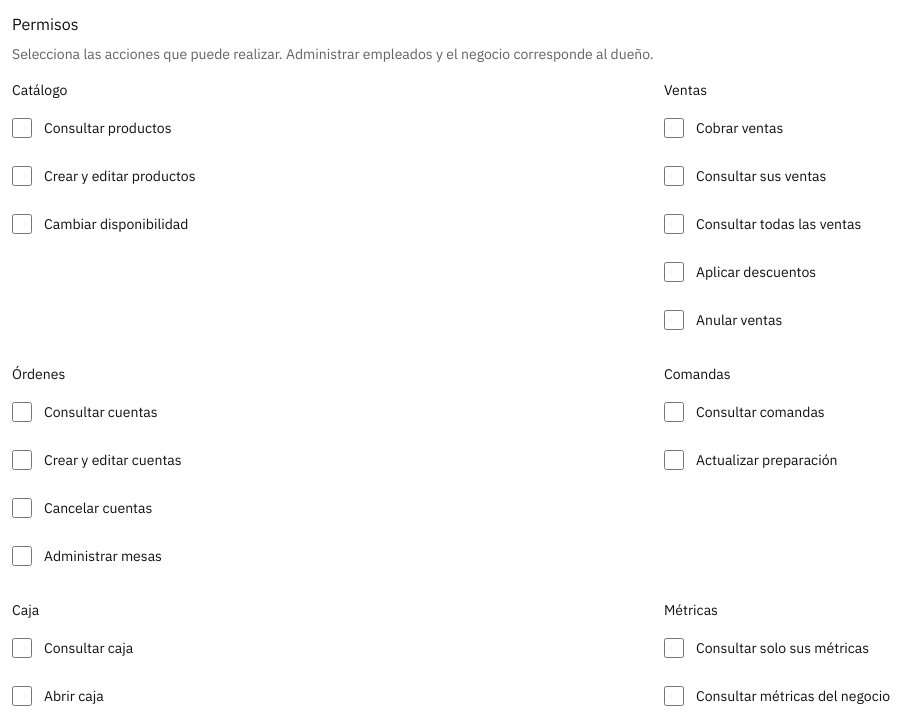
Scenario: offers grouped action checkboxes and keeps required reading permissions in sync
Click the checkbox labelled "Crear y editar productos".
click(22, 176)  # box x1=12 y1=166 x2=32 y2=186
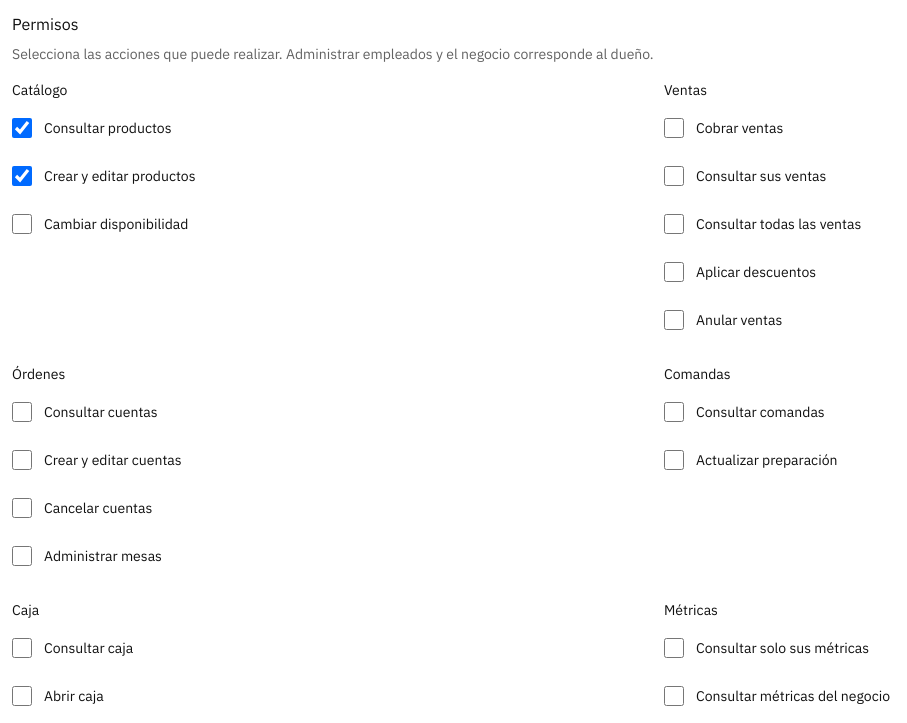
Now the checkbox labelled "Crear y editar productos" is checked, box x1=12 y1=166 x2=32 y2=186
Now the checkbox labelled "Consultar productos" is checked
Click the checkbox labelled "Consultar productos".
click(22, 128)  # box x1=12 y1=118 x2=32 y2=138
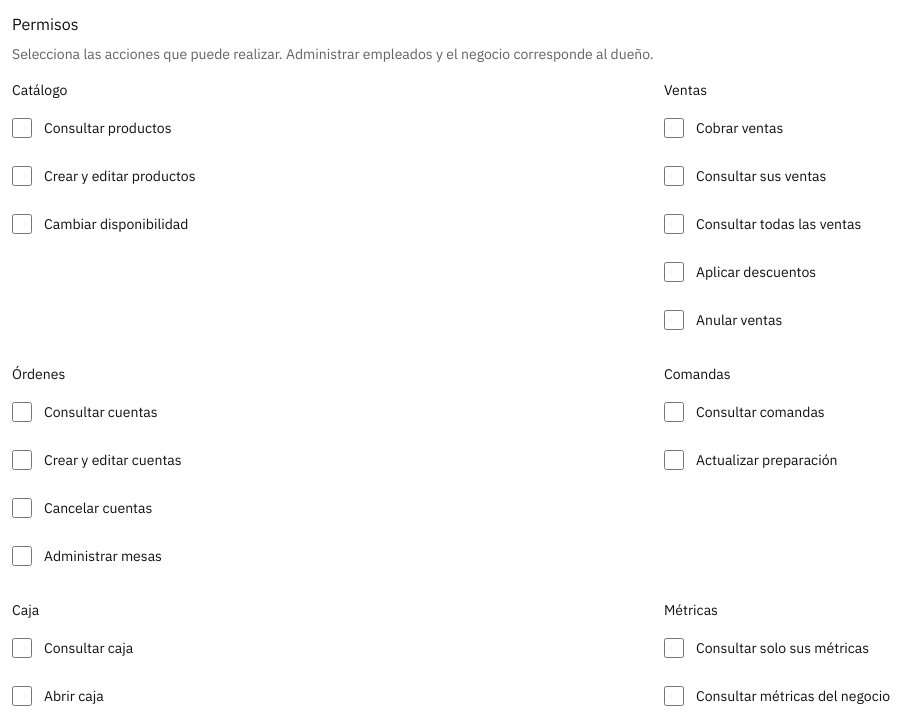
Now the checkbox labelled "Consultar productos" is not checked, box x1=12 y1=118 x2=32 y2=138
Now the checkbox labelled "Crear y editar productos" is not checked, box x1=12 y1=166 x2=32 y2=186
Click the checkbox labelled "Aplicar descuentos".
click(674, 272)  # box x1=664 y1=262 x2=684 y2=282
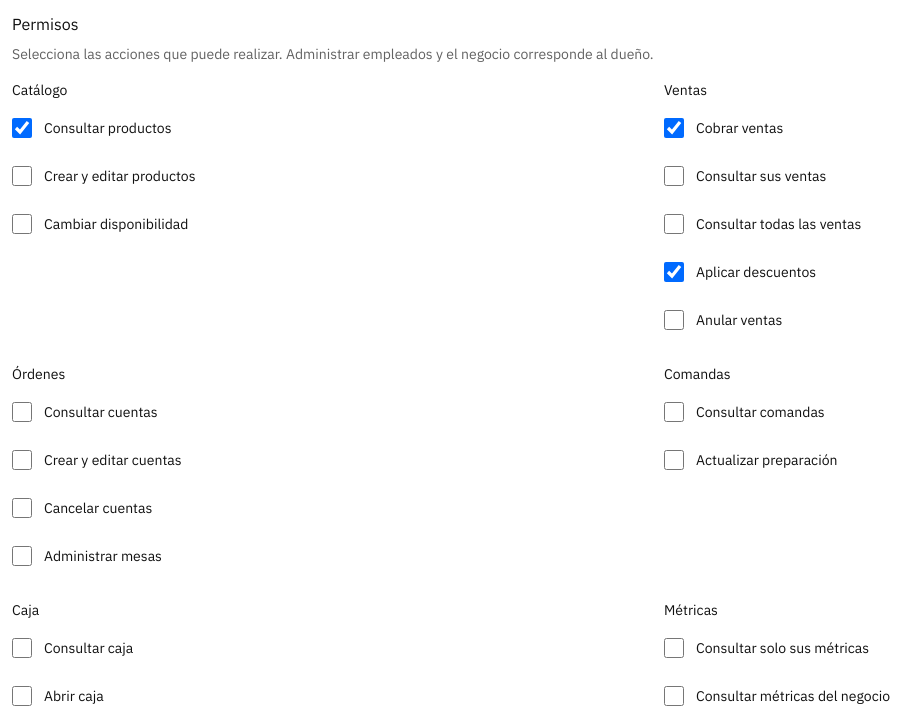
Now the checkbox labelled "Consultar productos" is checked
Now the checkbox labelled "Cobrar ventas" is checked, box x1=664 y1=118 x2=684 y2=138
Click the checkbox labelled "Consultar productos".
click(22, 128)  # box x1=12 y1=118 x2=32 y2=138
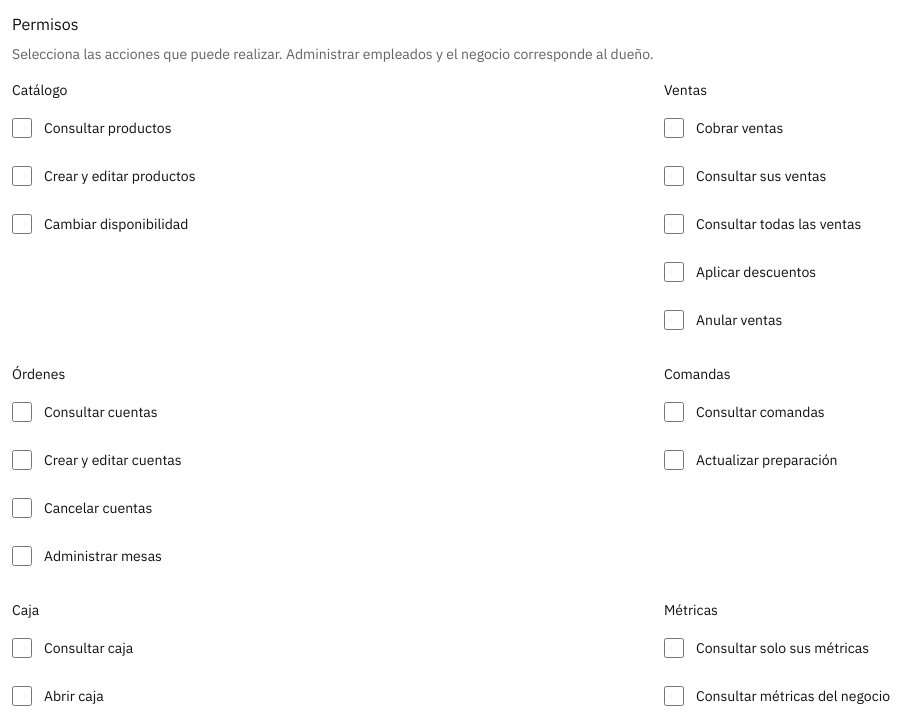
Now the checkbox labelled "Aplicar descuentos" is not checked, box x1=664 y1=262 x2=684 y2=282
Click the checkbox labelled "Administrar mesas".
click(22, 556)  # box x1=12 y1=546 x2=32 y2=566
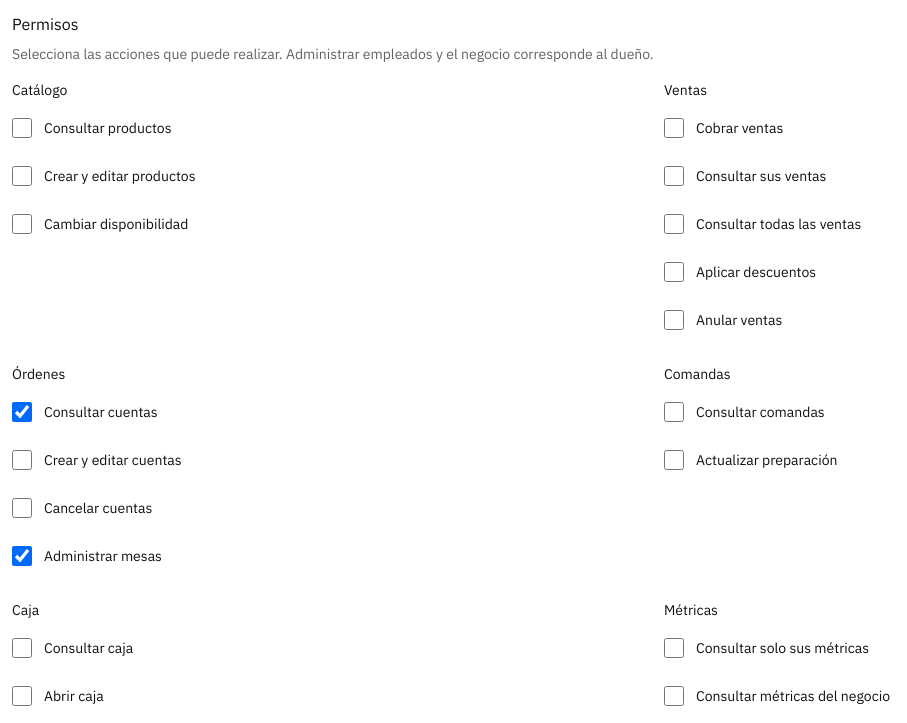
Now the checkbox labelled "Cobrar ventas" is not checked, box x1=664 y1=118 x2=684 y2=138
Now the checkbox labelled "Consultar cuentas" is checked, box x1=12 y1=402 x2=32 y2=422
